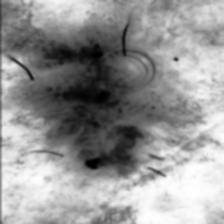Potentially Malignant Skin Tumors: (42, 34, 156, 214)
